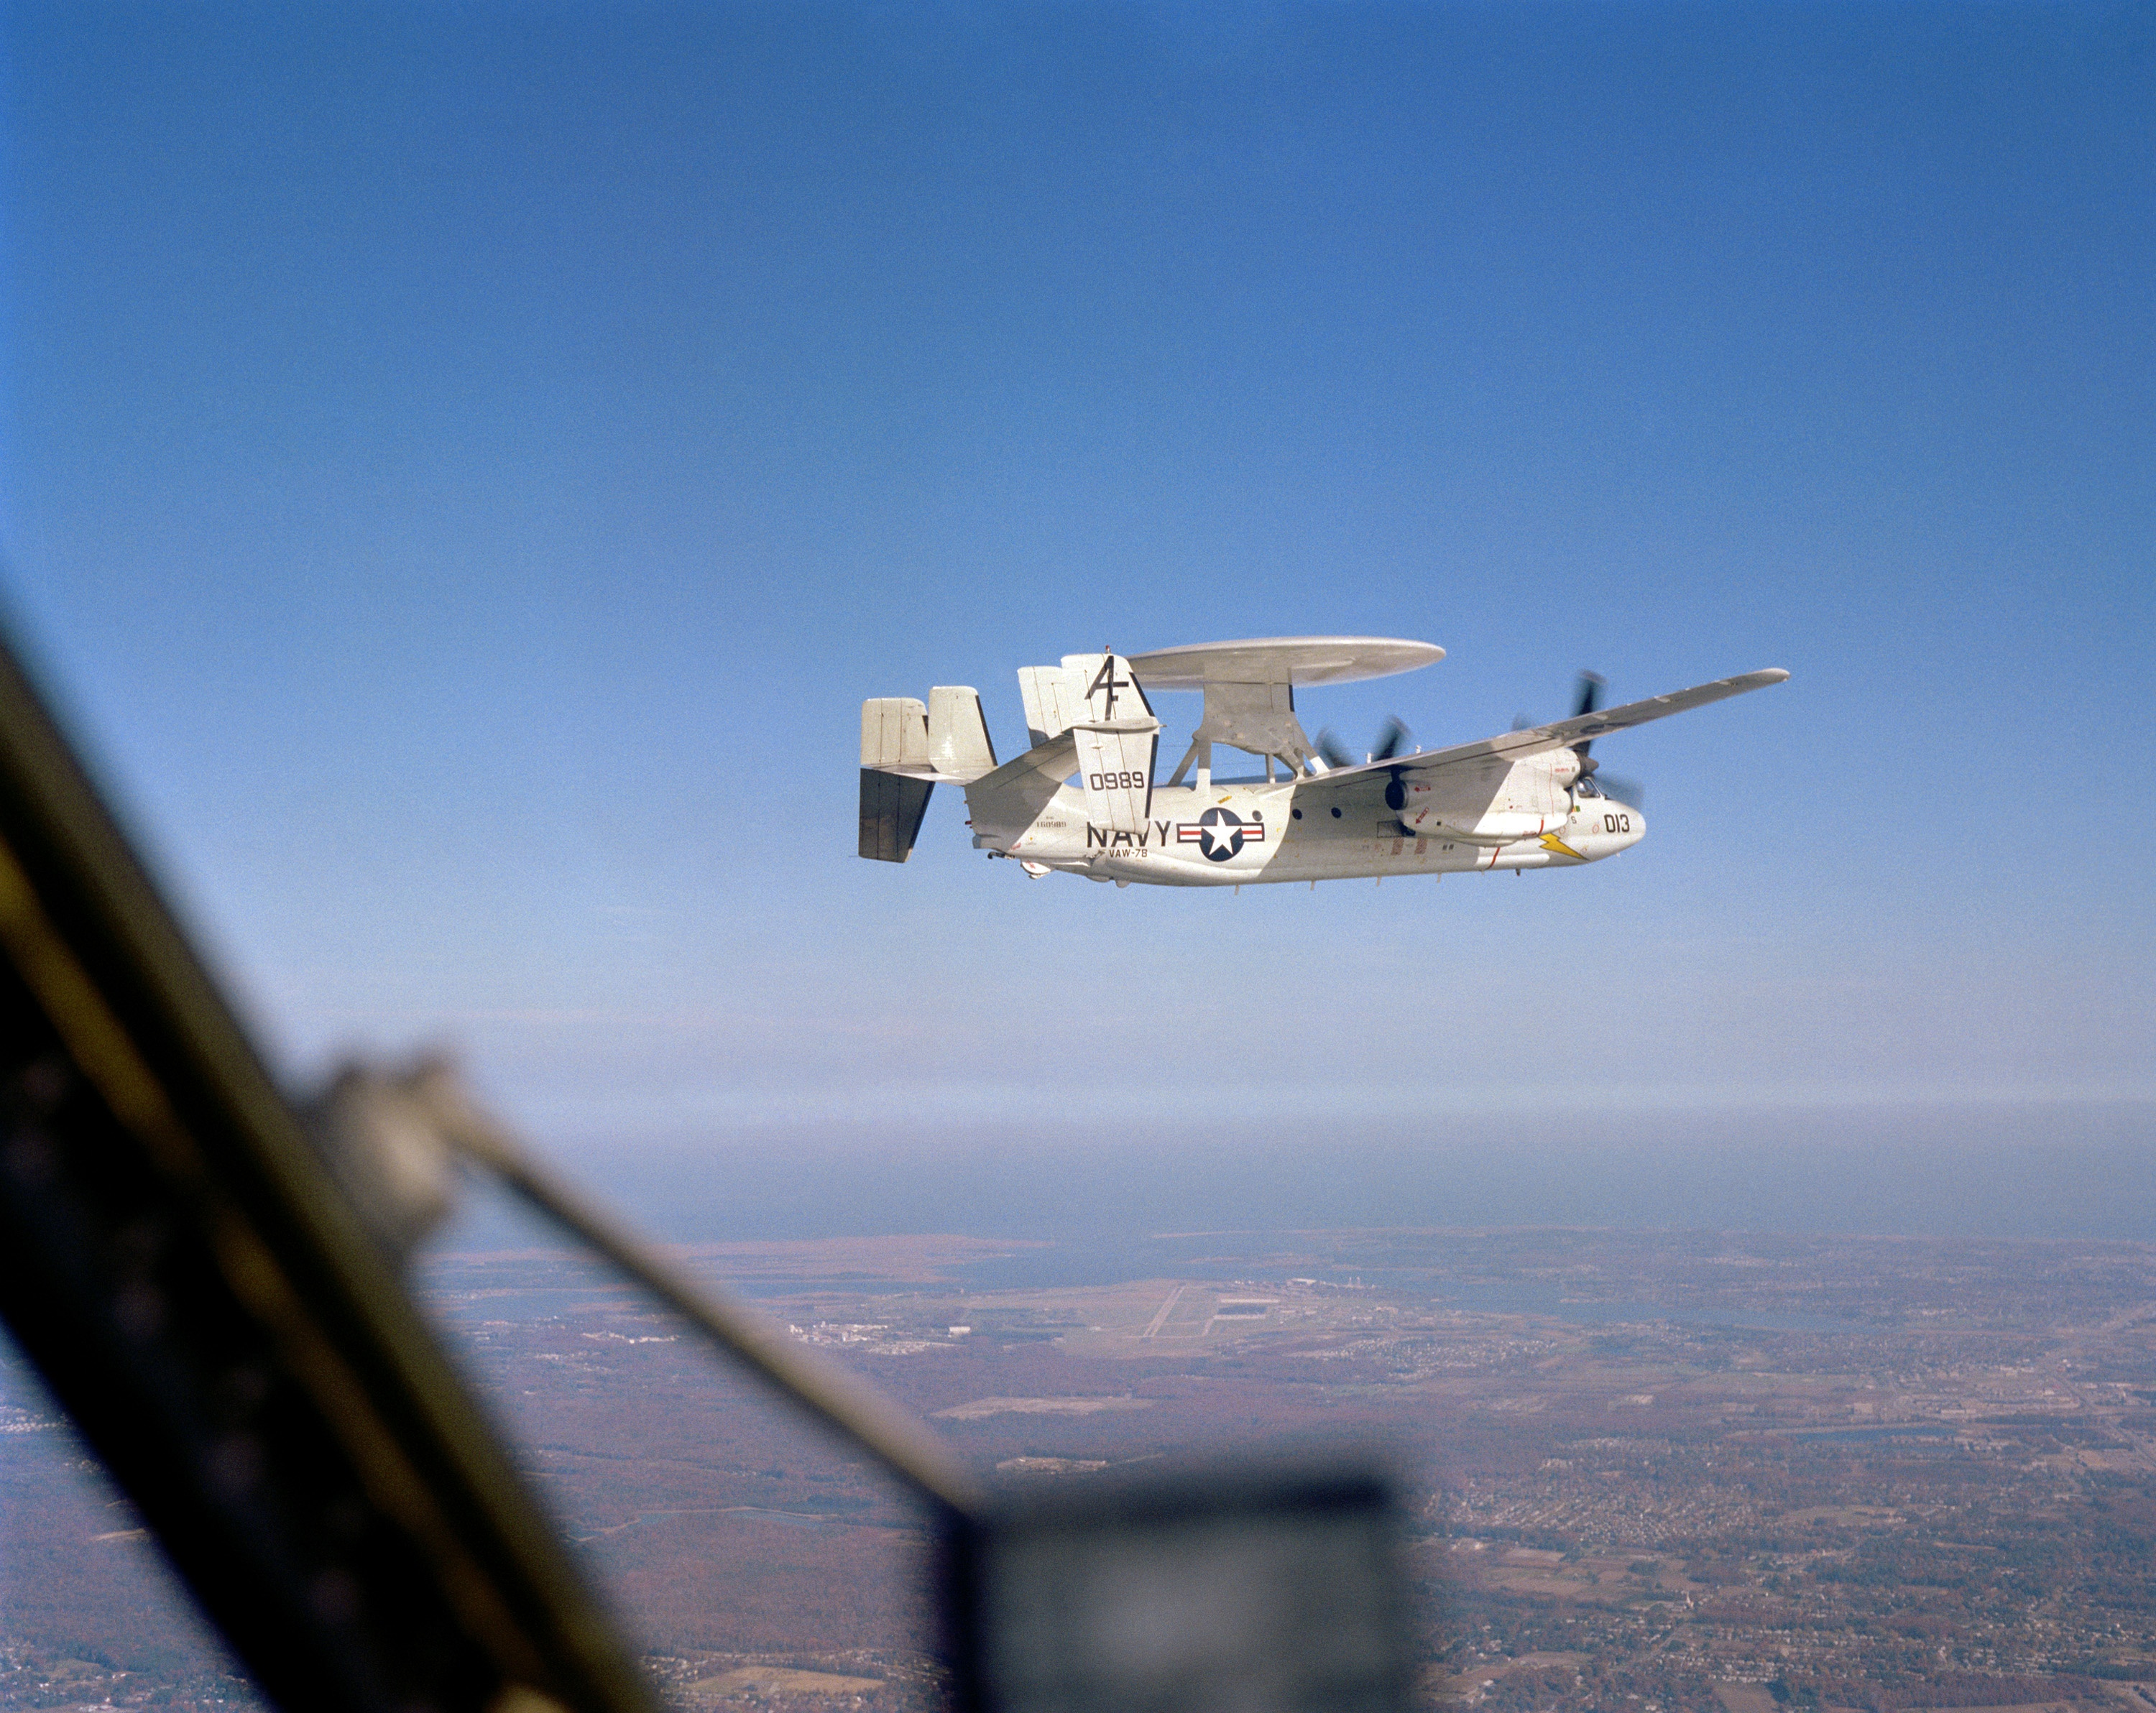E2: (845, 635, 1790, 896)
